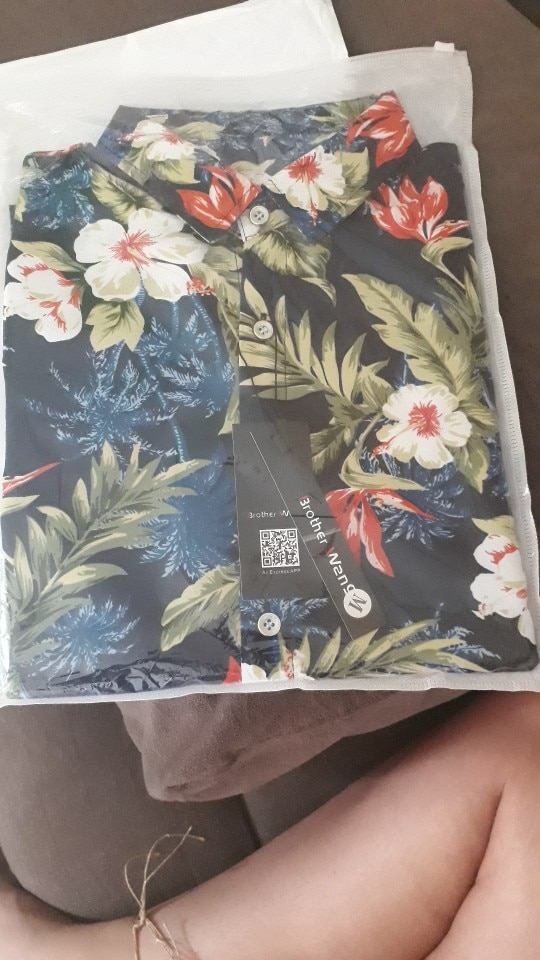shirts: (12, 104, 522, 665)
